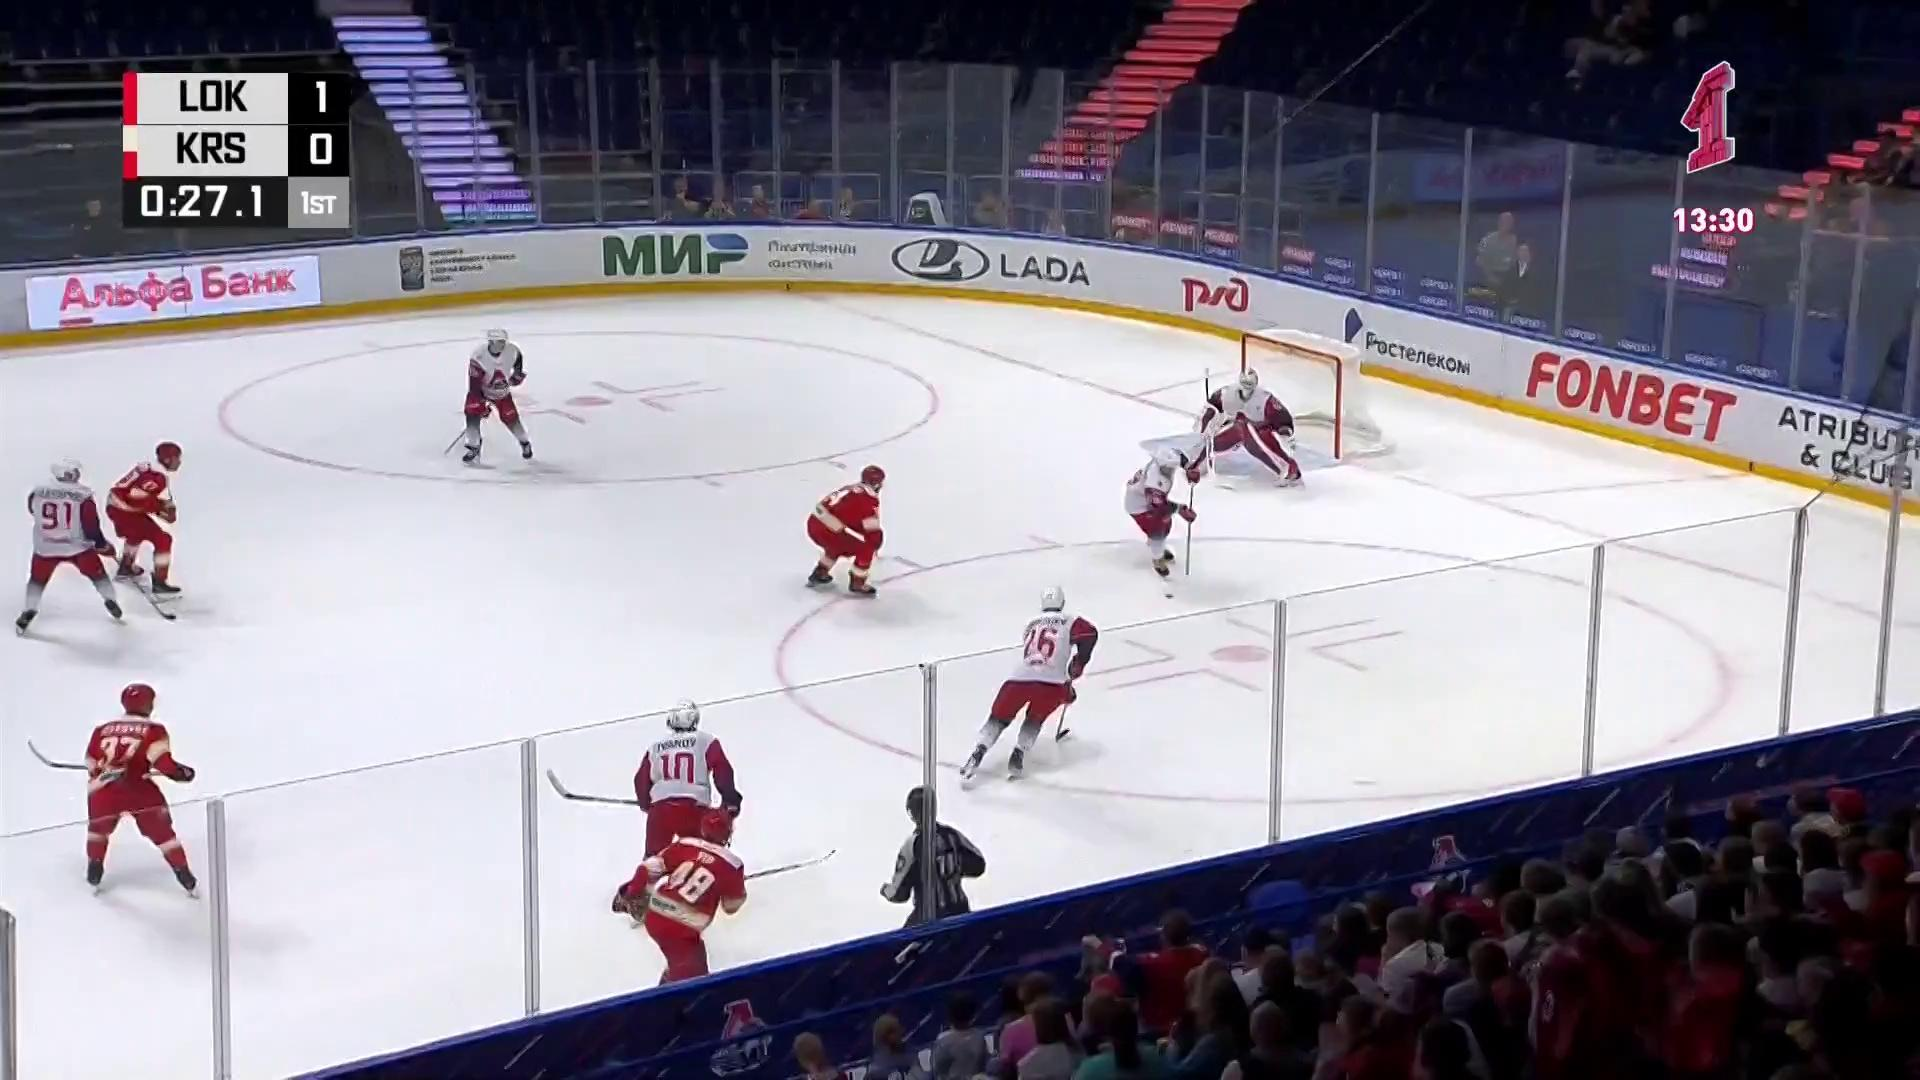ball: (1164, 593, 1174, 600)
